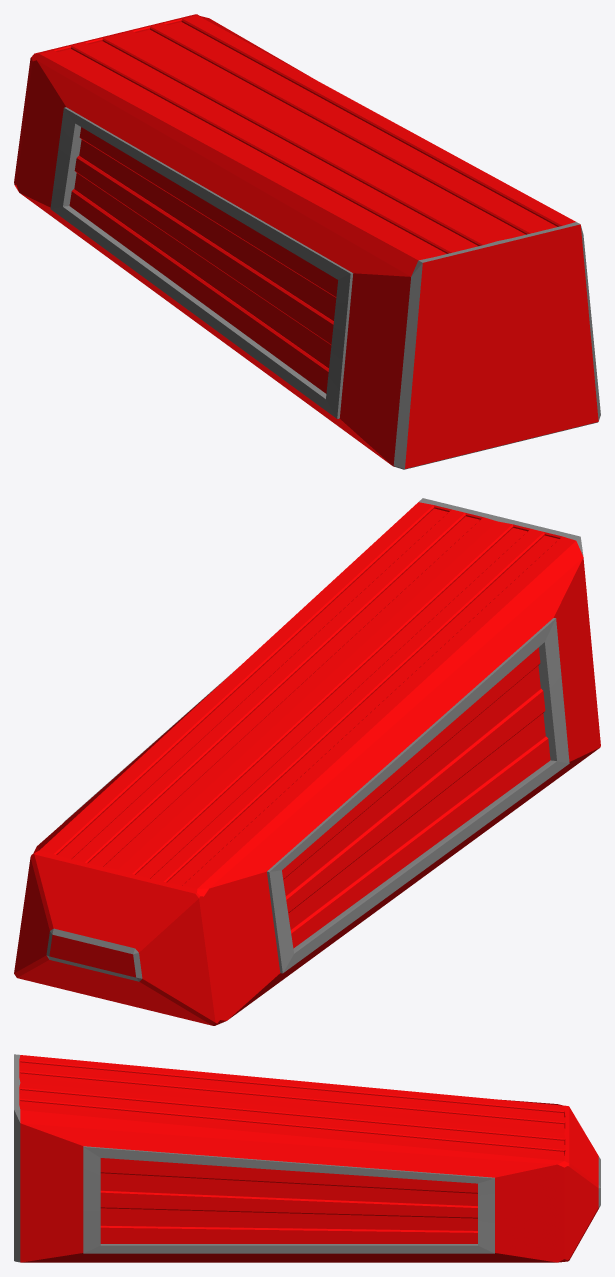
Rendered from Main Body 1.fbx.
3 views of the same model, one above another, from view 1: azimuth 30°, elevation 25°; view 2: azimuth 150°, elevation 25°; view 3: azimuth 270°, elevation 25° (orthographic). The views are drawn at different scales.
Visible parts, largest first — view 1: Main Body 1; view 2: Main Body 1; view 3: Main Body 1.
Part boxes in pixels (x1,y1,x2,y2): Main Body 1: (14, 14, 600, 469); Main Body 1: (14, 498, 600, 1025); Main Body 1: (14, 1054, 600, 1262).
Size of the model in its own units: 14.7 by 12.28 by 44.82.
